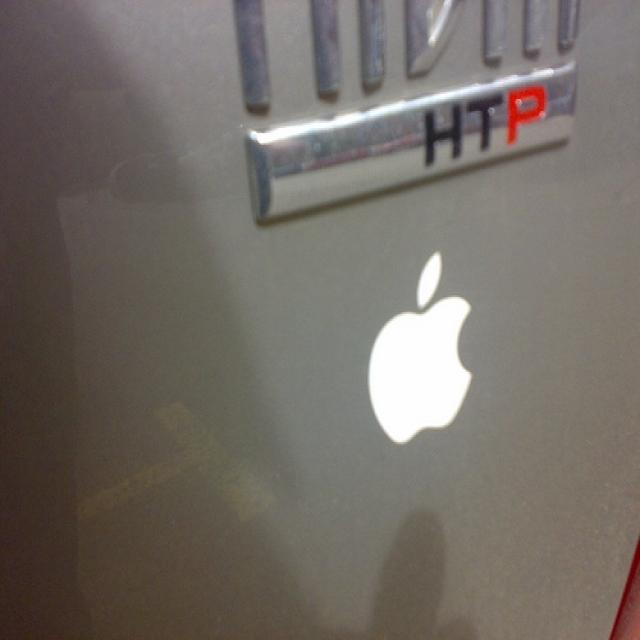apple: (364, 247, 479, 452)
